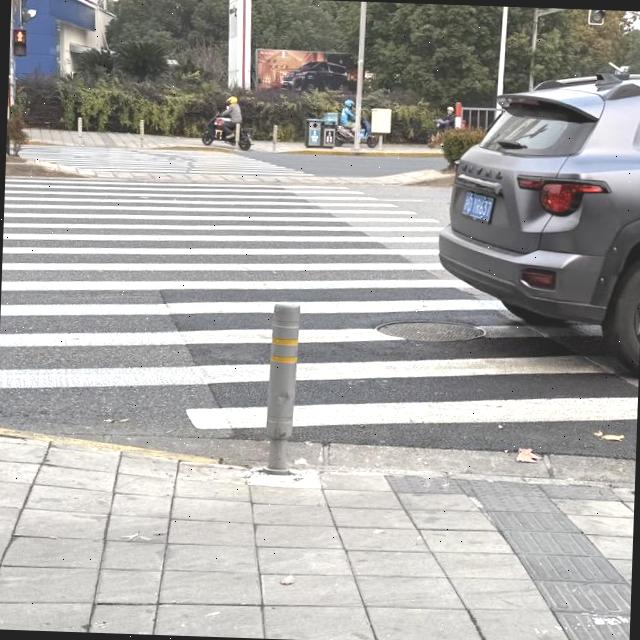curb: (0, 427, 219, 463), (5, 156, 90, 175), (281, 149, 440, 157), (391, 171, 452, 185), (150, 144, 234, 152)
